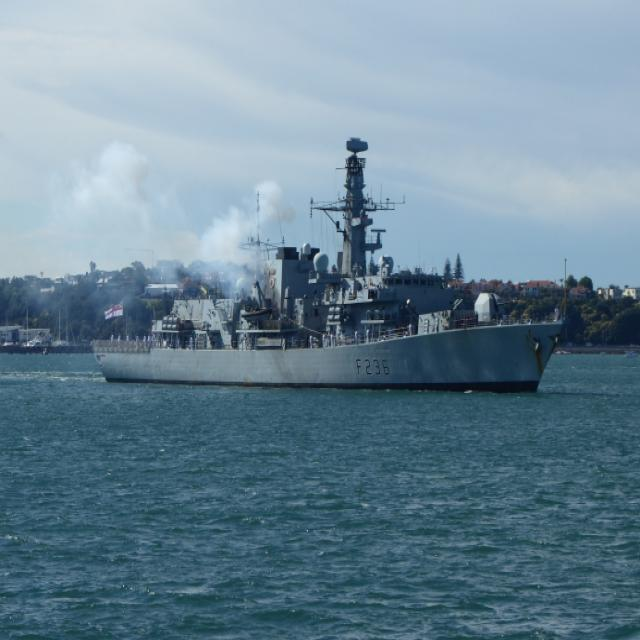Fragata: (96, 131, 567, 403)
